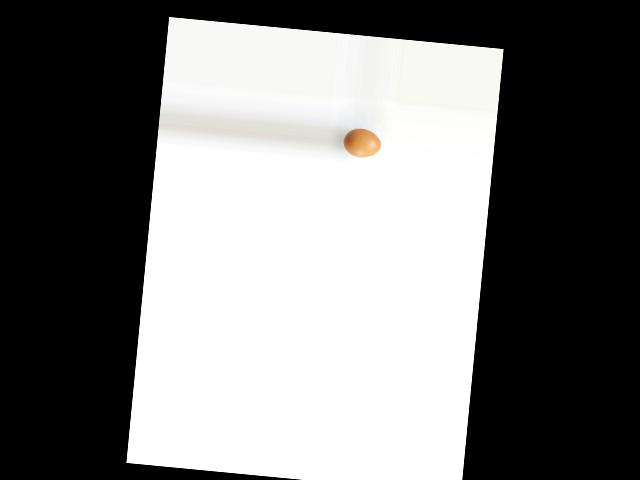egg: (341, 126, 382, 158)
